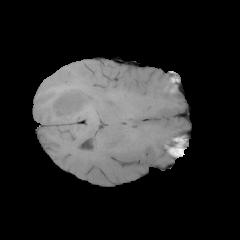glioma: (48, 85, 94, 121)
